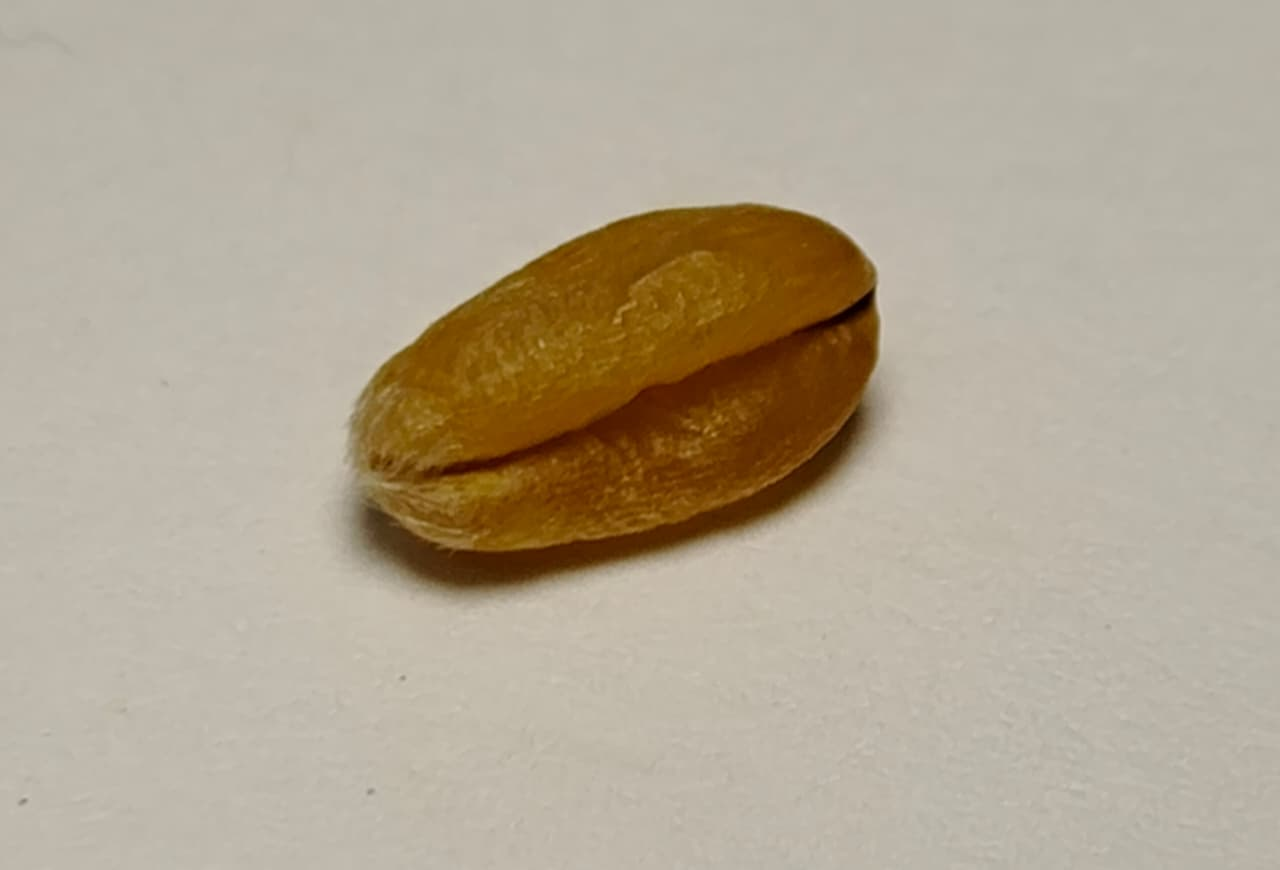healthy: (353, 204, 878, 548)
